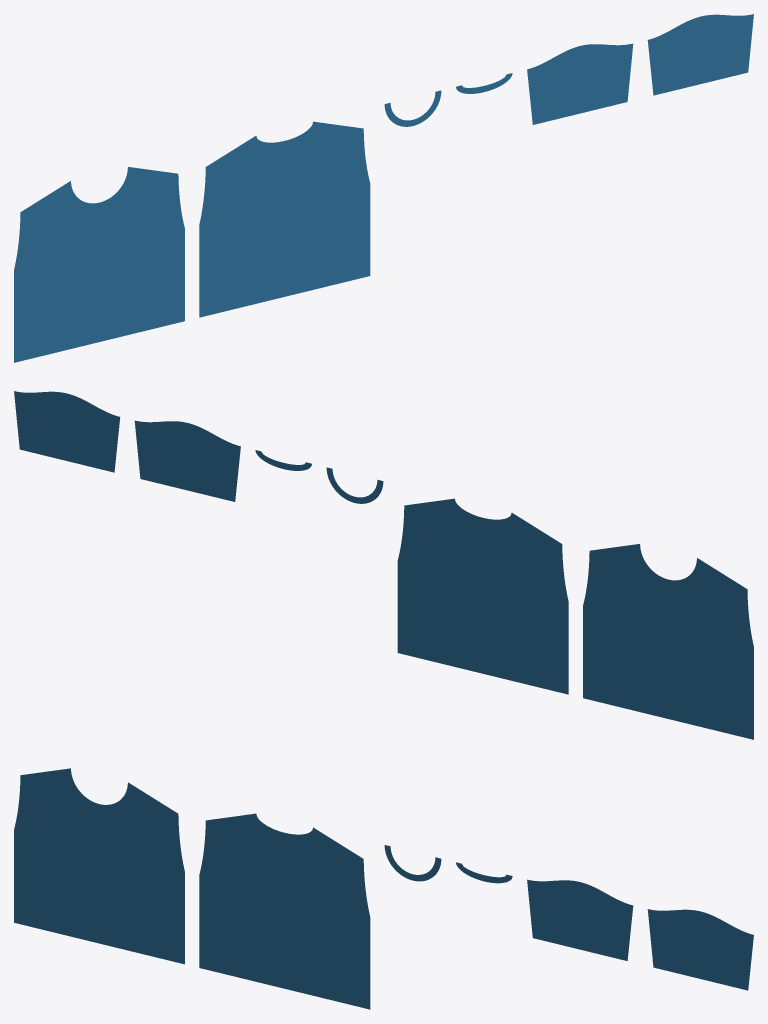
The model's file is camiseta-corta-boxy-algodon-talla-M.glb.
The picture shows the model from 3 angles, top to bottom: view 1: azimuth 30°, elevation 25°; view 2: azimuth 150°, elevation 25°; view 3: azimuth 330°, elevation 25°; orthographic projection.
Parts seen in each view (by area): view 1: patron-espalda, patron-delantero, patron-manga-der, patron-manga-izq; view 2: patron-espalda, patron-delantero, patron-manga-der, patron-manga-izq; view 3: patron-espalda, patron-delantero, patron-manga-der, patron-manga-izq, patron-cuello-delantero.
Part boxes in pixels (x1=…): patron-espalda: x1=199, y1=121, x2=370, y2=317; patron-delantero: x1=14, y1=167, x2=184, y2=362; patron-manga-der: x1=647, y1=14, x2=753, y2=95; patron-manga-izq: x1=527, y1=43, x2=633, y2=124; patron-espalda: x1=397, y1=498, x2=568, y2=694; patron-delantero: x1=583, y1=544, x2=753, y2=739; patron-manga-der: x1=14, y1=391, x2=120, y2=472; patron-manga-izq: x1=134, y1=420, x2=240, y2=501; patron-espalda: x1=199, y1=813, x2=370, y2=1009; patron-delantero: x1=14, y1=768, x2=184, y2=964; patron-manga-der: x1=647, y1=909, x2=753, y2=990; patron-manga-izq: x1=527, y1=879, x2=633, y2=960; patron-cuello-delantero: x1=384, y1=845, x2=441, y2=881.
Size of the model in its own units: 2.58 by 0.595 by 0.
